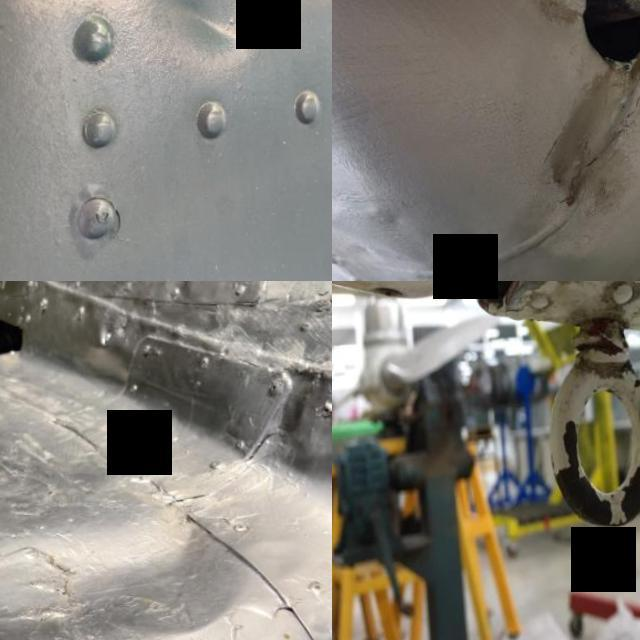Dent: (0, 459, 268, 640), (475, 62, 640, 229), (102, 0, 291, 114), (507, 0, 598, 30)
